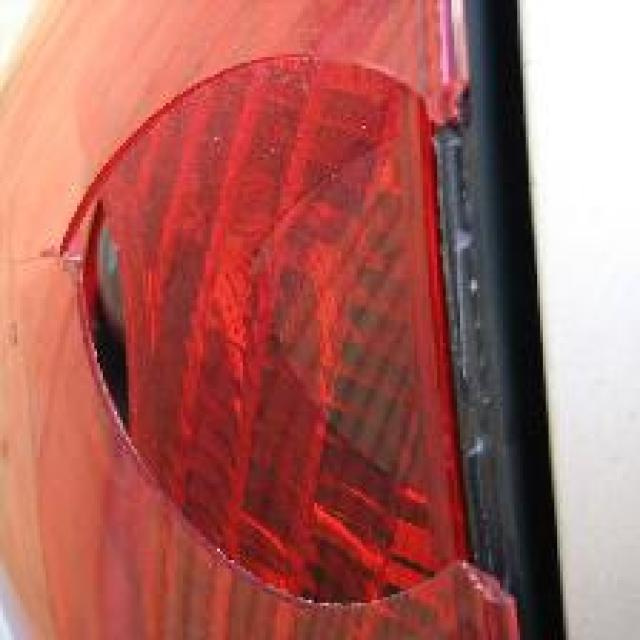tail_lamp_minor: (77, 57, 423, 534)
